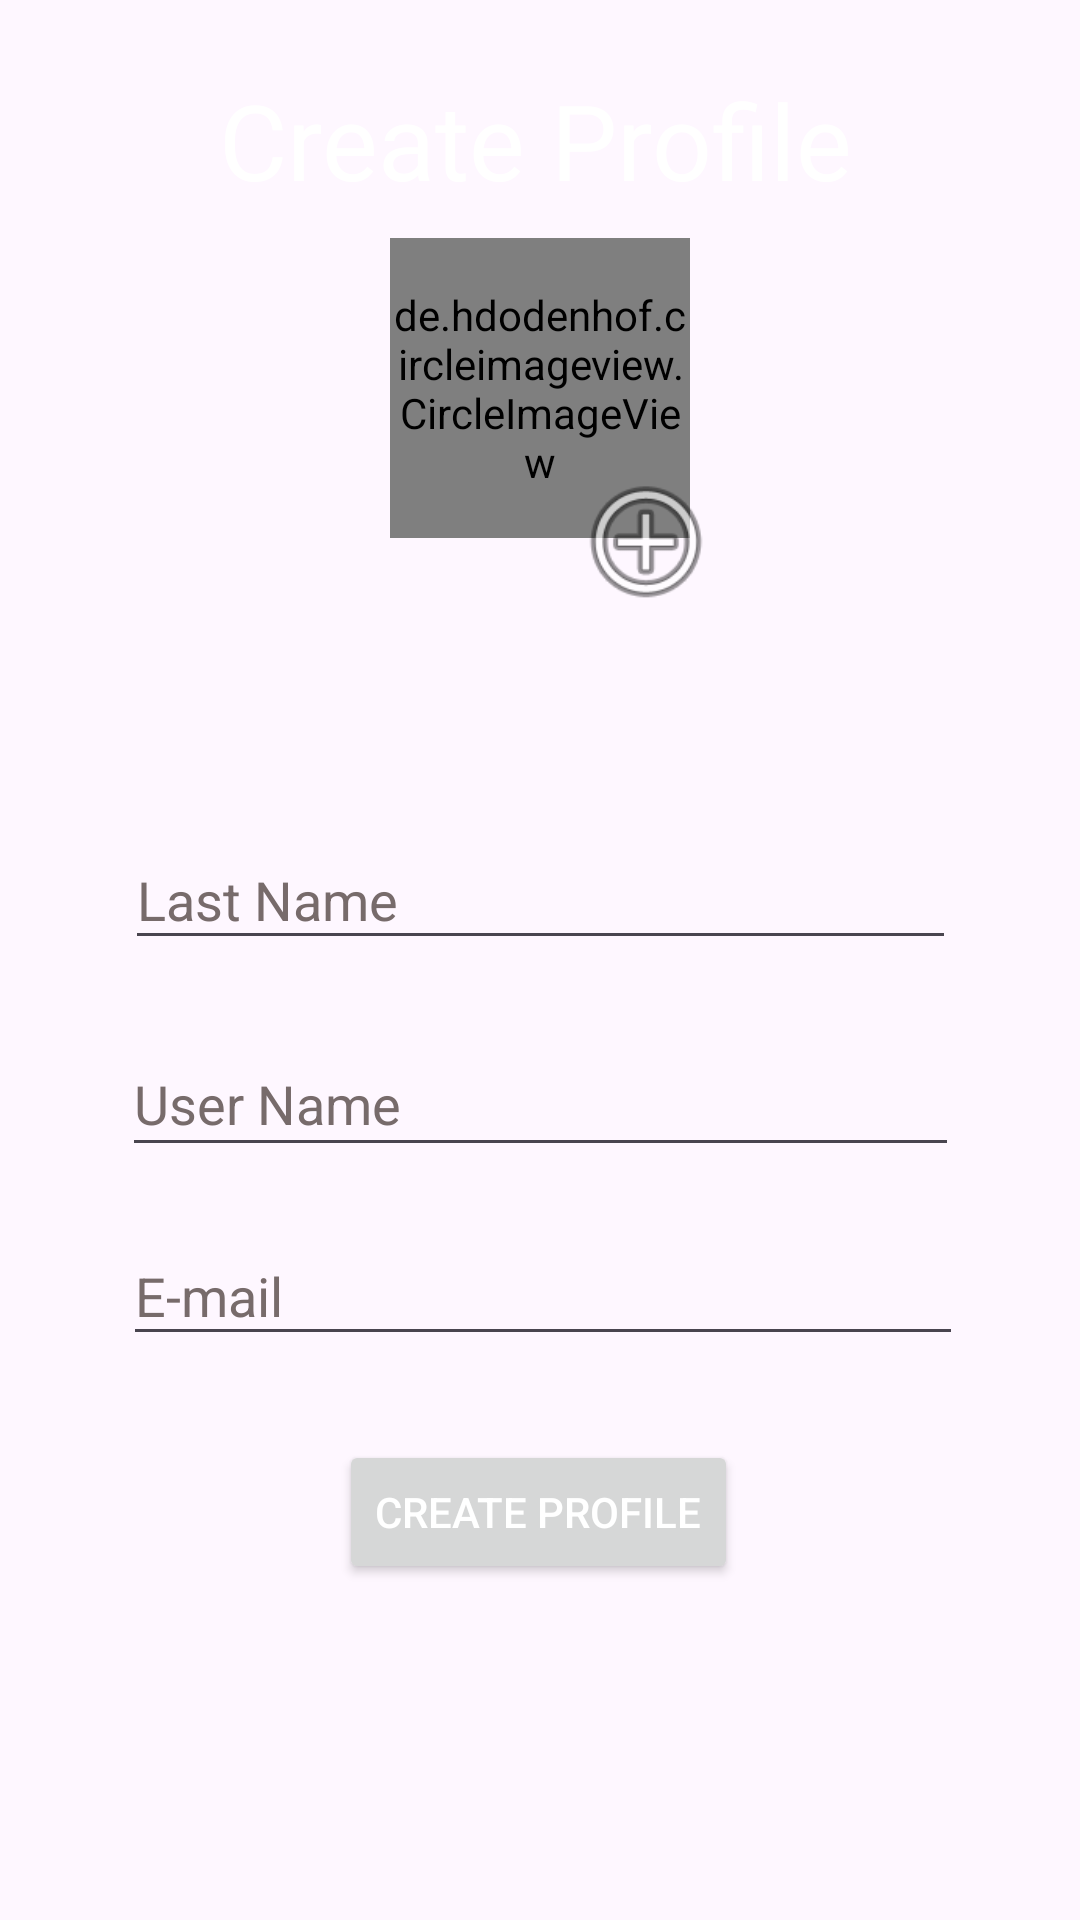

Named icons in this screenshot (1080 x 1920) and their bounding boxes, bbox=[x1, y1, x2, y2]:
add: bbox=[562, 466, 702, 598]
